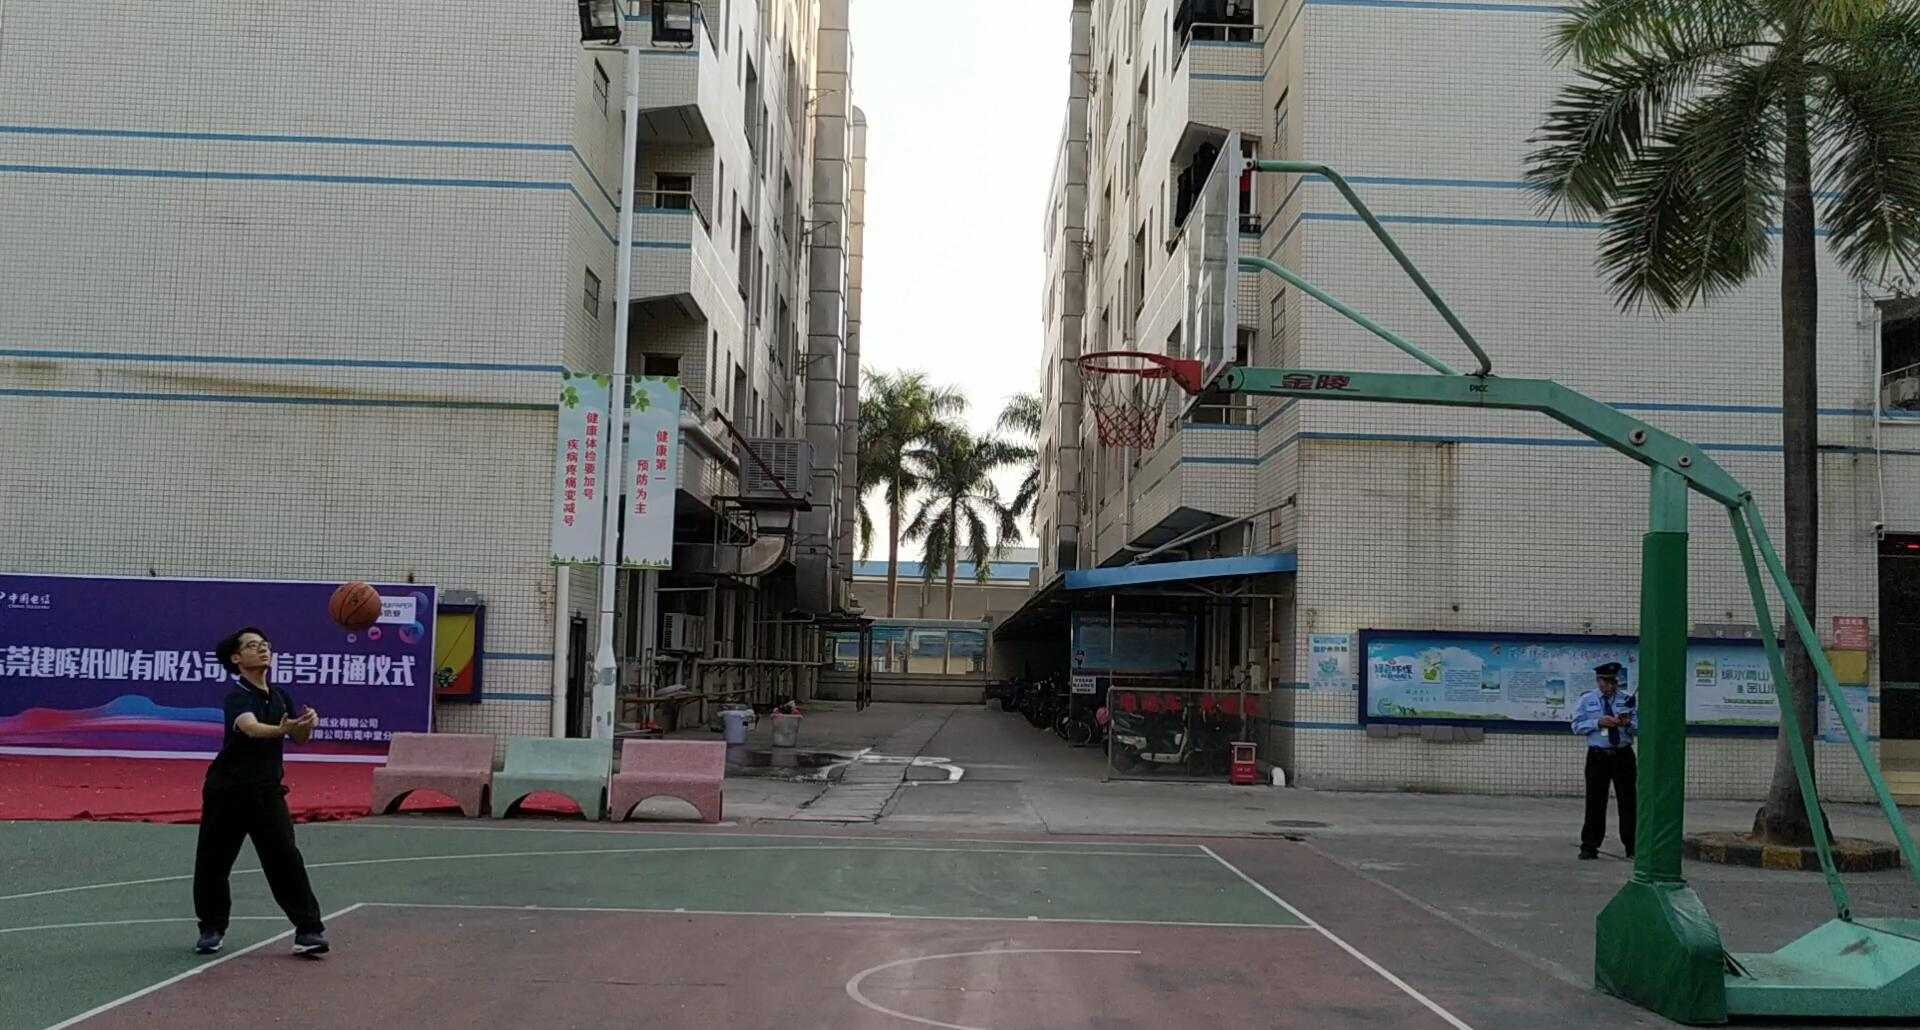basketball: (326, 579, 386, 636)
